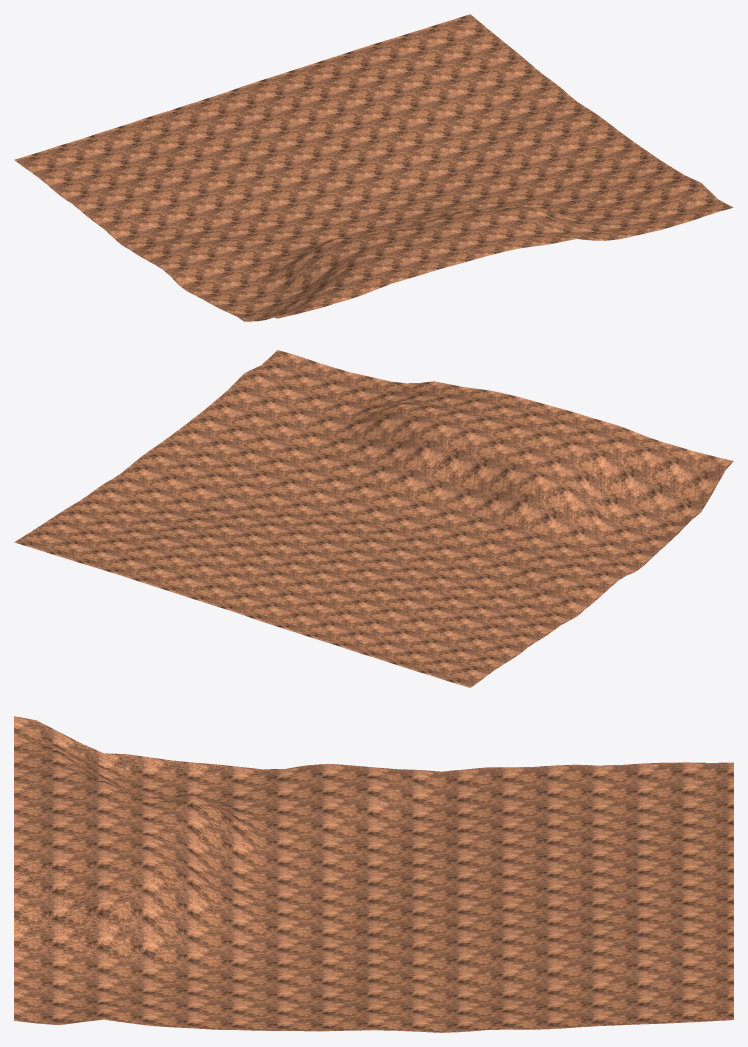
Rendered from terrain_01_11.dae.
3 views of the same model, one above another, from view 1: azimuth 30°, elevation 25°; view 2: azimuth 150°, elevation 25°; view 3: azimuth 270°, elevation 25° (orthographic). The views are drawn at different scales.
Visible parts, largest first — view 1: terrain_01_11-node; view 2: terrain_01_11-node; view 3: terrain_01_11-node.
Part boxes in pixels (x1,y1,x2,y2): terrain_01_11-node: (14, 14, 733, 321); terrain_01_11-node: (14, 350, 733, 687); terrain_01_11-node: (14, 716, 733, 1032).
Size of the model in its own units: 128 by 128 by 14.01.
1 material, 1 textured.
